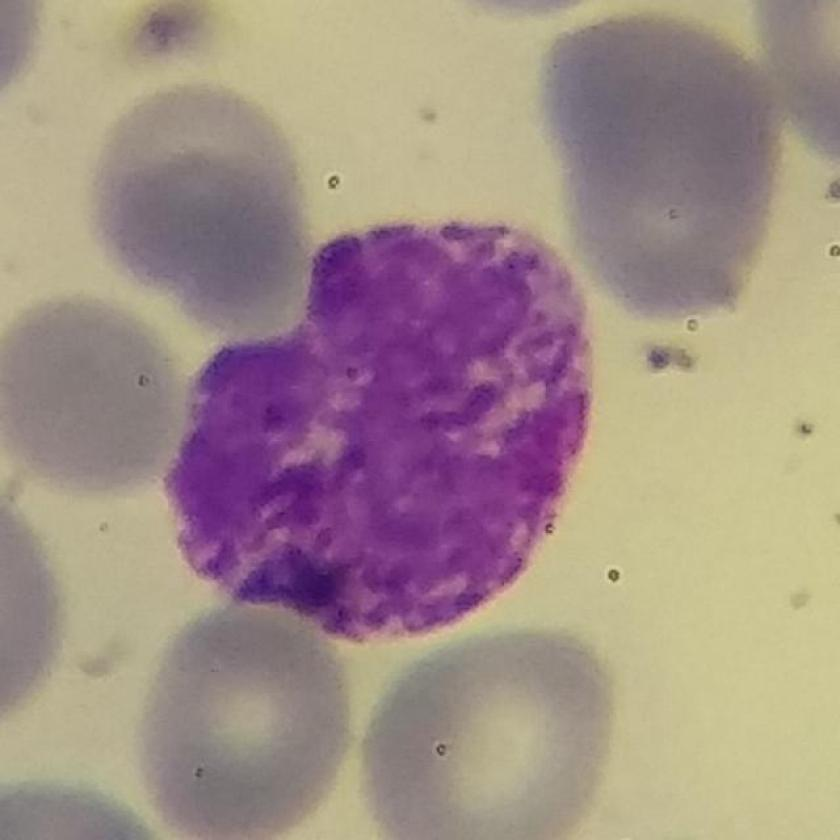basophil: (171, 214, 604, 638)
